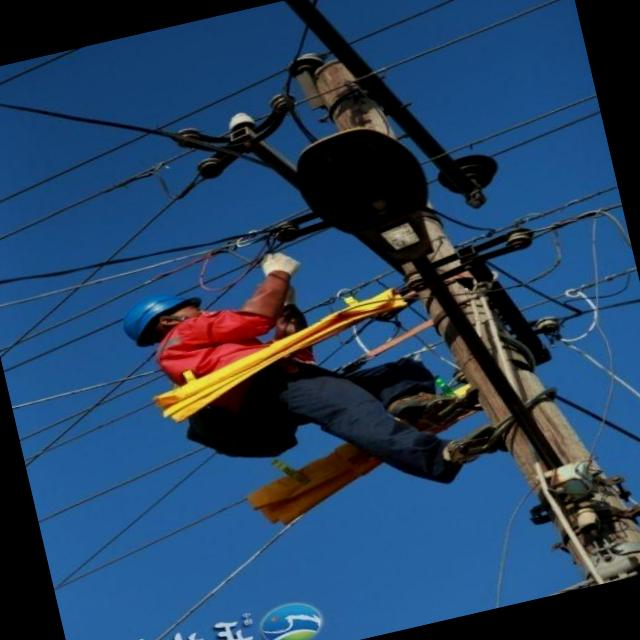helmet: (115, 284, 204, 338)
no-vest: (150, 302, 274, 431)
